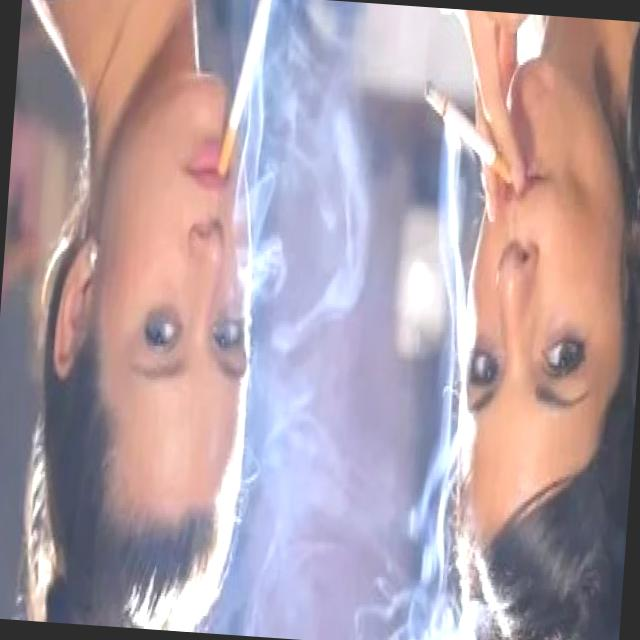cigarette: (412, 69, 526, 195), (211, 0, 279, 194)
